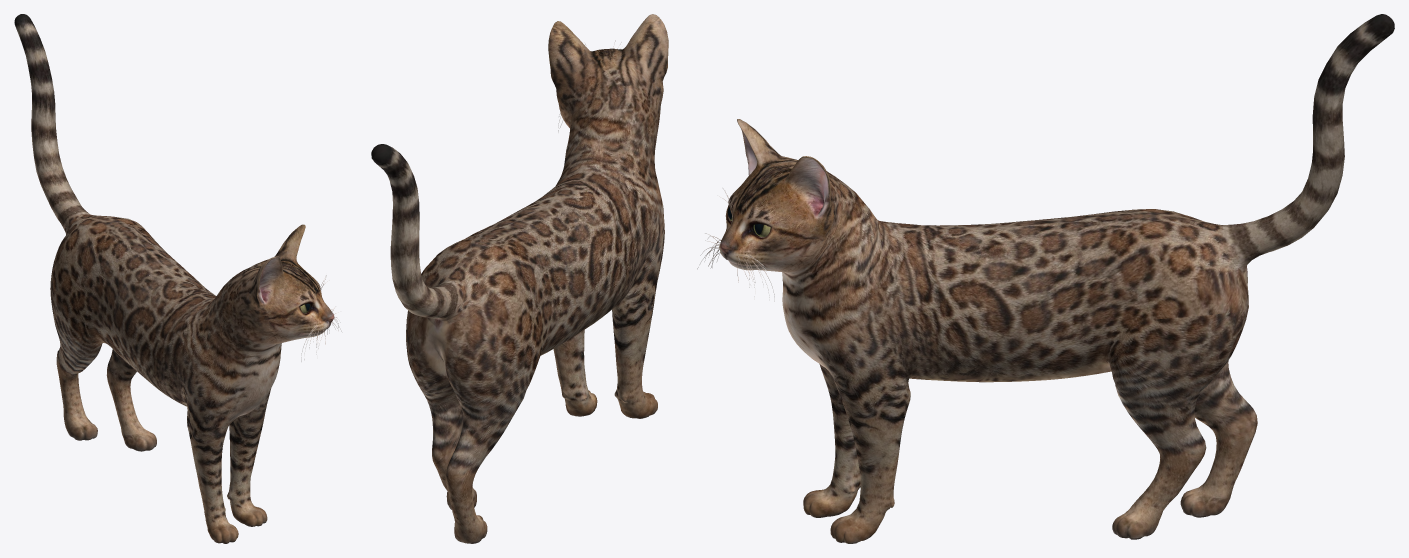
3 views of the same model, side by side, from view 1: azimuth 30°, elevation 25°; view 2: azimuth 150°, elevation 25°; view 3: azimuth 270°, elevation 25° (orthographic). The views are drawn at different scales.
Parts seen in each view (by area): view 1: Object_108; view 2: Object_108; view 3: Object_108.
Boxes of the visible parts, <box> form: Object_108: <box>14,14,342,543</box>; Object_108: <box>371,14,668,543</box>; Object_108: <box>697,14,1394,543</box>.
Size of the model in its own units: 0.1655 by 0.4638 by 0.5855.
1 material, 1 textured.
